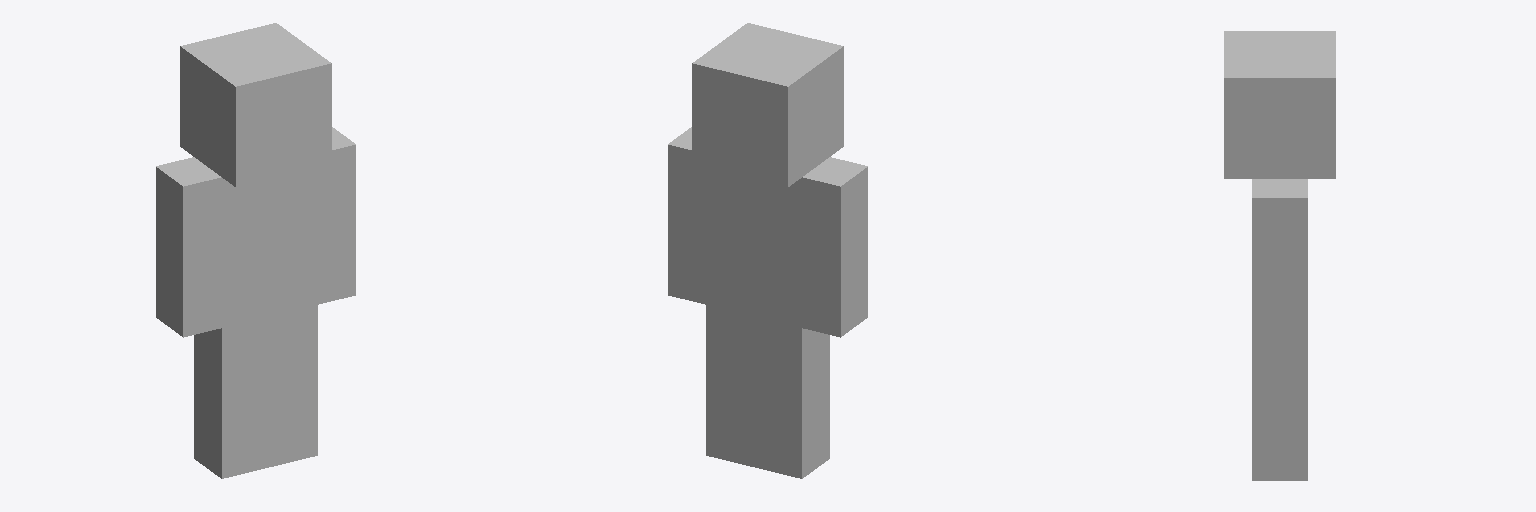
The model's file is regulus_player_model2.obj.
3 views of the same model, side by side, from view 1: azimuth 30°, elevation 25°; view 2: azimuth 150°, elevation 25°; view 3: azimuth 270°, elevation 25° (orthographic).
Parts seen in each view (by area): view 1: Cube; view 2: Cube; view 3: Cube.
Boxes of the visible parts, <box> form: Cube: <box>156,23,355,478</box>; Cube: <box>668,23,867,478</box>; Cube: <box>1224,31,1335,480</box>.
Bounding box in the file's own units: 8.1 × 18 × 4.5.